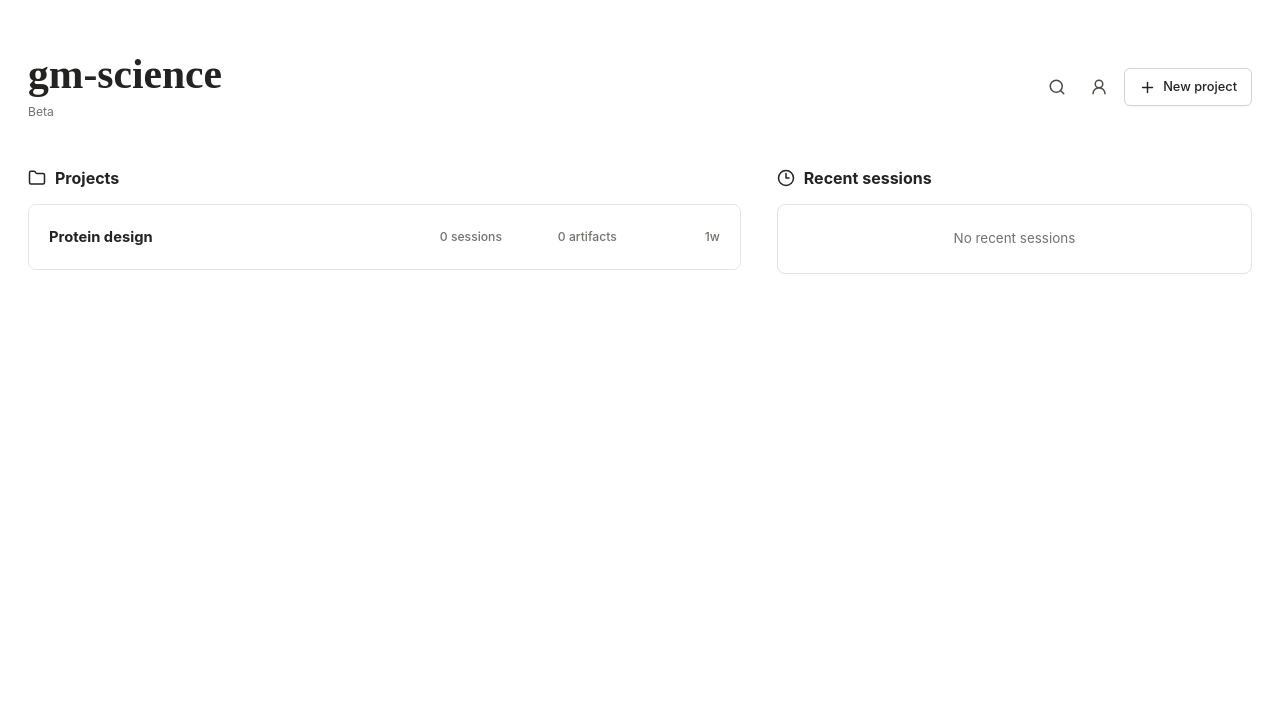
gm-science App › opens a Project-scoped shell and toggles the Files split pane
Click the button "Protein design 0 sessions 0 artifacts 1w": [101, 237] box [29,205,740,269]
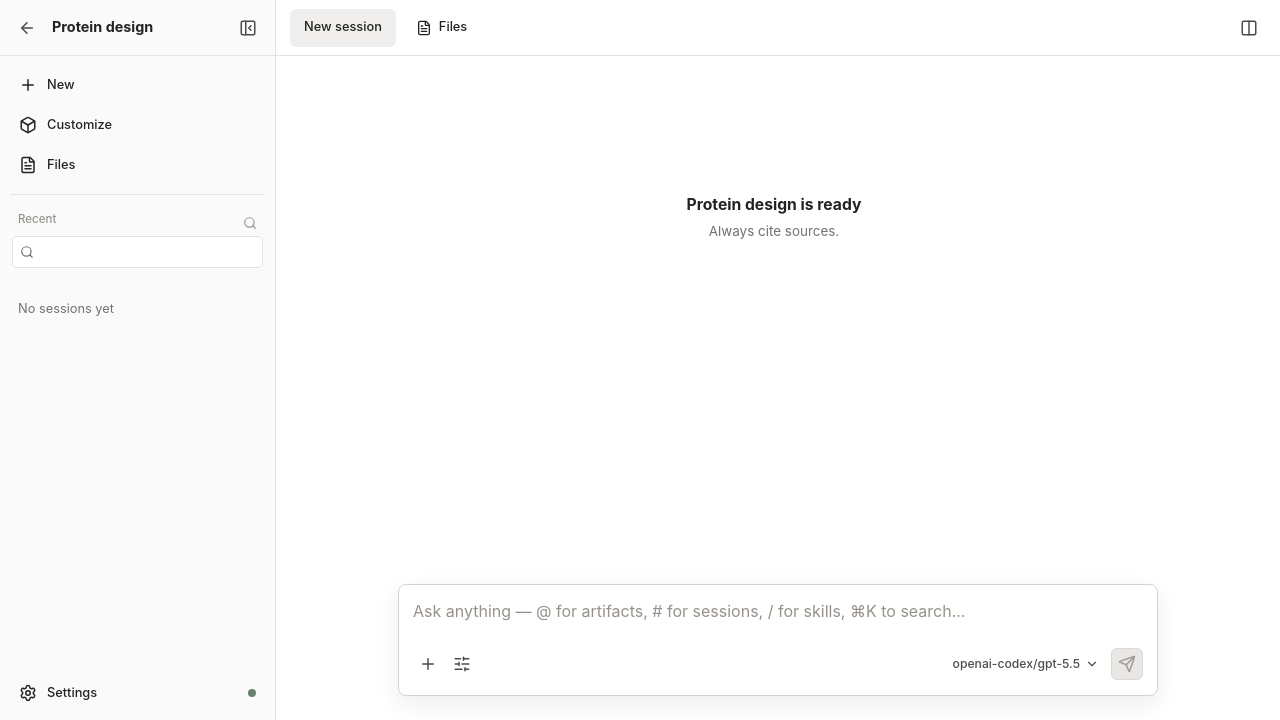
Now the button named "Back to dashboard" is shown, box [10,10,44,44]
Now the navigation bar named "Sessions" is shown, box [0,56,275,194]
Now the button "New" is shown, box [8,66,267,104]
Click the button "Files": [138, 165] box [8,146,267,184]
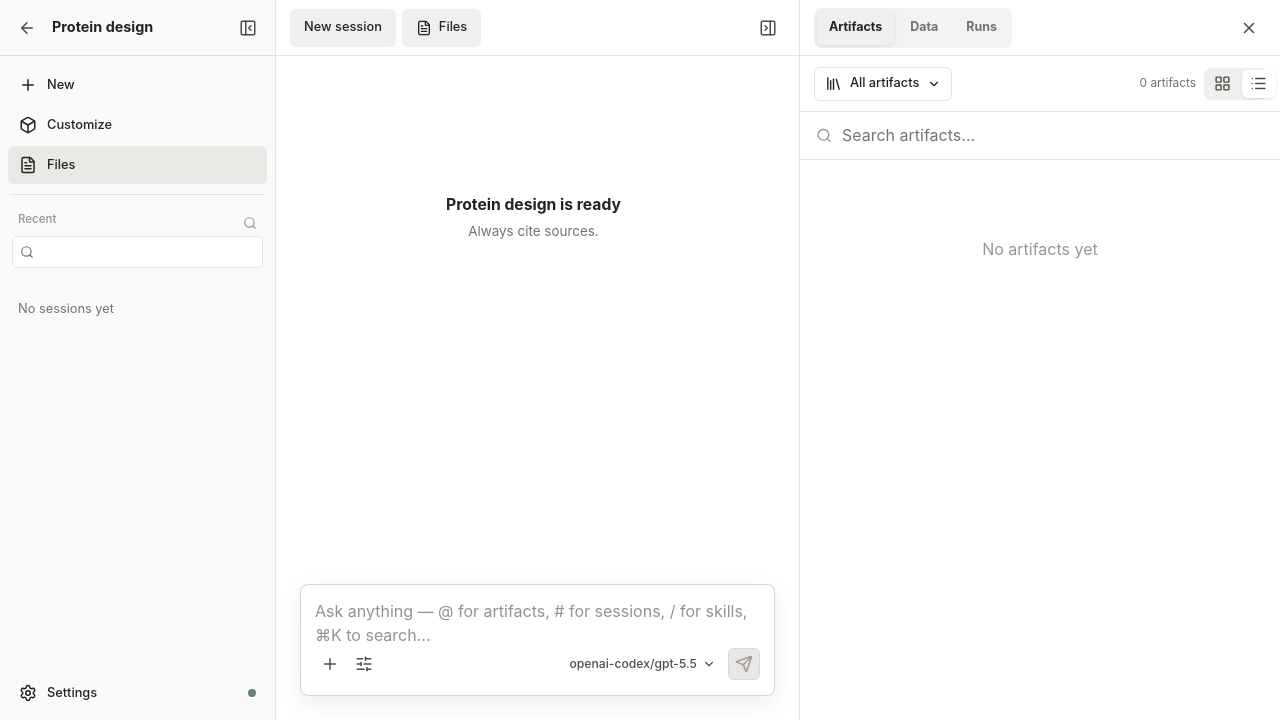
Now the element named "Files" is shown, box [799,0,1279,719]
Now the button named "Close Files" is shown, box [1232,10,1266,44]
